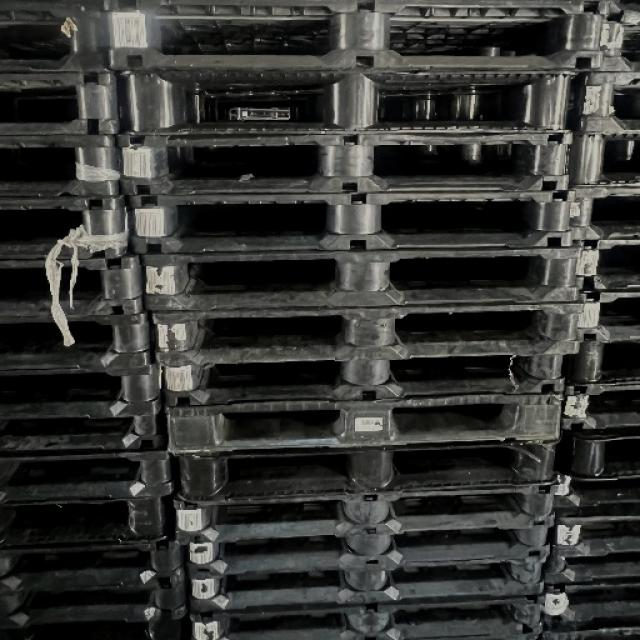igps: (92, 0, 611, 79), (110, 58, 583, 142), (137, 236, 588, 318), (124, 182, 581, 260), (109, 127, 576, 202), (143, 297, 590, 372), (158, 386, 571, 465), (169, 434, 566, 513), (165, 472, 562, 550), (152, 346, 573, 416), (181, 512, 554, 579), (185, 554, 550, 618), (181, 589, 550, 640), (0, 560, 193, 630), (0, 484, 171, 561), (0, 352, 166, 427), (0, 442, 180, 510), (0, 246, 148, 326), (0, 394, 164, 466), (0, 525, 186, 587), (0, 184, 135, 268), (0, 308, 156, 378), (0, 64, 130, 142), (0, 126, 124, 206), (0, 0, 110, 82), (0, 594, 195, 640), (534, 576, 640, 635), (562, 68, 640, 138), (549, 427, 640, 485), (560, 126, 640, 191), (560, 182, 640, 245), (542, 510, 638, 562), (536, 543, 639, 591), (536, 470, 640, 517), (557, 338, 640, 394), (580, 0, 640, 77), (564, 237, 640, 297), (559, 378, 640, 434), (572, 283, 640, 349)
